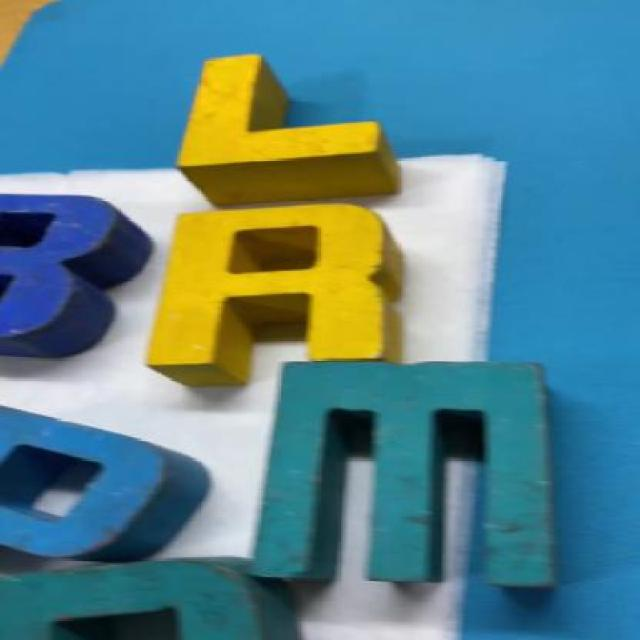L: (171, 59, 389, 204)
M: (252, 354, 583, 592)
R: (129, 196, 433, 373)
